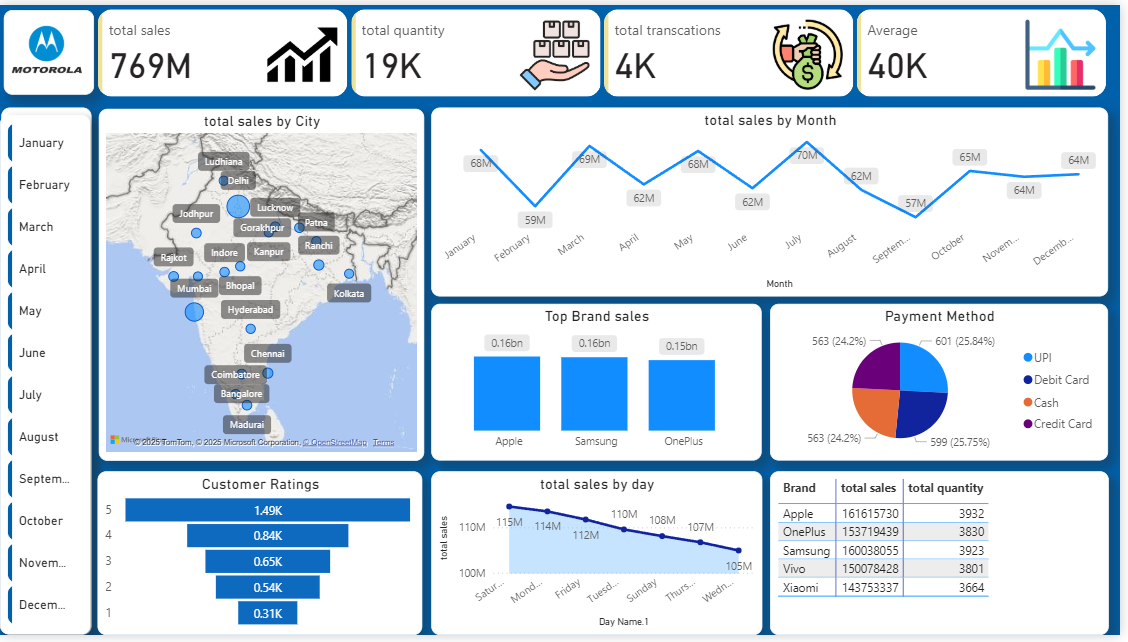

This screenshot's page, from the dashboard's own definition file:
{"tool":"powerbi","page":{"name":"Page 1","canvas":[1280,720],"ordinal":0},"visuals":[{"type":"shape","box":[4.4,5.6,103.3,96.7],"z":0},{"type":"image","box":[4.4,0,98.9,102.2],"z":1000},{"type":"shape","box":[0.8,117.7,103.1,602.3],"z":2000},{"type":"advancedSlicerVisual","fields":{"Values":["sales data.Date .Variation.Date Hierarchy.Month"]},"box":[0,126.2,103.1,593.8],"z":3000},{"type":"cardVisual","fields":{"Data":["sales data.total sales","sales data.total quantity","sales data.total transcations","sales data.Average"]},"box":[107.7,0,1162.3,110],"z":4000},{"type":"map","fields":{"Category":["sales data.City"],"Size":["sales data.total sales"]},"box":[112.1,117.9,372.1,402.1],"z":5000},{"type":"lineChart","fields":{"Y":["sales data.total sales"],"Category":["sales data.Date .Variation.Date Hierarchy.Month","sales data.Date .Variation.Date Hierarchy.Day"]},"box":[492.5,117.5,773.8,216.2],"z":6000},{"type":"columnChart","title":"Top Brand sales","fields":{"Category":["sales data.Brand"],"Y":["sales data.total sales"]},"box":[492.5,340.8,377.5,179.2],"z":7000},{"type":"pieChart","title":"Payment Method","fields":{"Category":["sales data.Payment Method"],"Y":["sales data.total transcations"]},"box":[880,340.8,386.7,179.2],"z":8000},{"type":"funnel","title":" Customer Ratings","fields":{"Category":["sales data.Customer Ratings"],"Y":["CountNonNull(sales data.Customer Ratings)"]},"box":[111.4,532.9,371.4,187.1],"z":9000},{"type":"areaChart","title":"total sales by day","fields":{"Y":["sales data.total sales"],"Category":["sales data.Day Name.1"]},"box":[493,533,378,187],"z":9001},{"type":"tableEx","fields":{"Values":["sales data.Brand","sales data.total sales","sales data.total quantity"]},"box":[880,533,387,187],"z":9002}]}

Visuals, with their boxes in screenshot pixels (x1, y1, x2, y2), scaled from the page's 1280x720 canvas onto the 1128x642 screenshot:
shape: 4, 5, 95, 91
image: 4, 0, 91, 91
shape: 1, 105, 92, 641
advancedSlicerVisual - sales data.Date .Variation.Date Hierarchy.Month: 0, 113, 91, 641
cardVisual - sales data.total sales x sales data.total quantity: 95, 0, 1119, 98
map - sales data.City x sales data.total sales: 99, 105, 427, 464
lineChart - sales data.total sales x sales data.Date .Variation.Date Hierarchy.Month: 434, 105, 1116, 298
"Top Brand sales" columnChart: 434, 304, 767, 464
"Payment Method" pieChart: 776, 304, 1116, 464
" Customer Ratings" funnel: 98, 475, 425, 641
"total sales by day" areaChart: 434, 475, 768, 641
tableEx - sales data.Brand x sales data.total sales: 776, 475, 1117, 641
